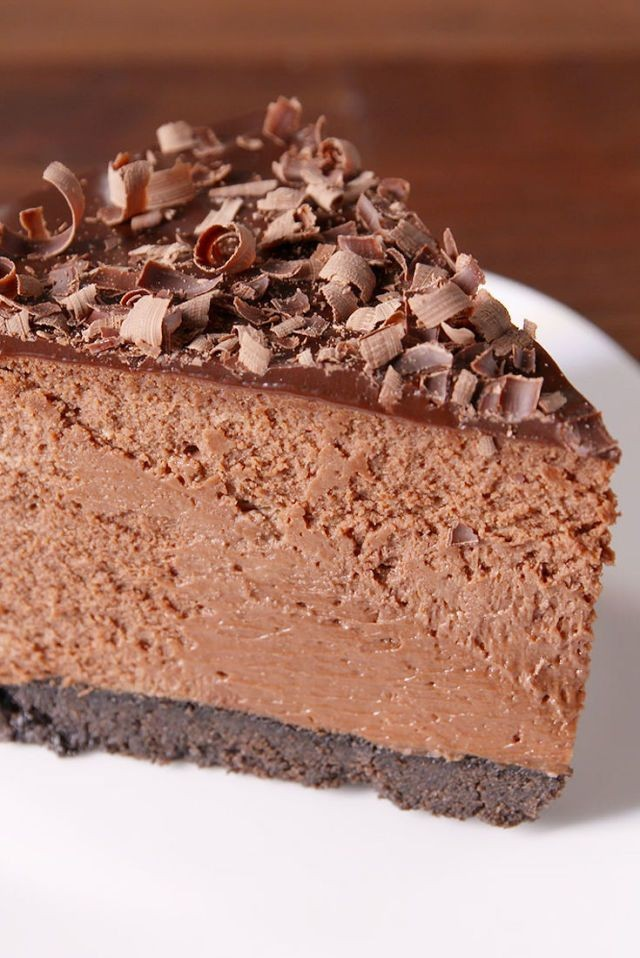cheese: (128, 138, 380, 314)
